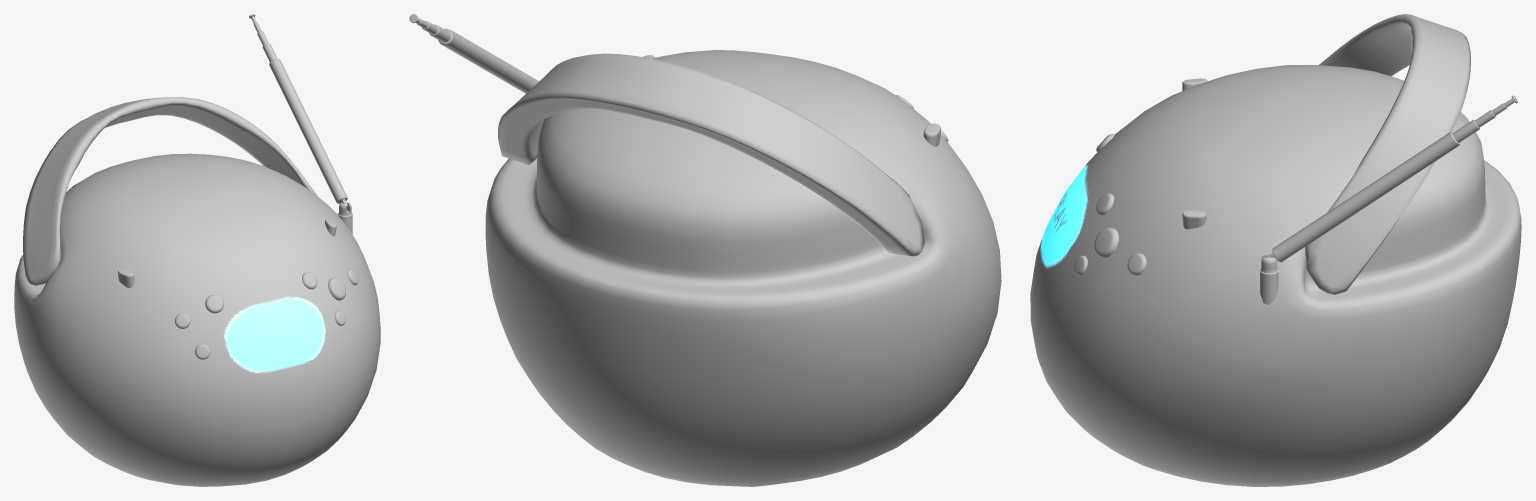
File: BoomBox.gltf
3 renders of one model, left to right at view 1: azimuth 30°, elevation 25°; view 2: azimuth 150°, elevation 25°; view 3: azimuth 270°, elevation 25°, orthographic. The views are drawn at different scales.
Visible parts, largest first — view 1: rootNode; view 2: rootNode; view 3: rootNode.
Boxes of the visible parts, left/top/right/bottom form: rootNode: left=14, top=14, right=380, bottom=486; rootNode: left=409, top=14, right=1001, bottom=486; rootNode: left=1030, top=14, right=1521, bottom=486.
Size of the model in its own units: 0.0198 by 0.0195 by 0.0202.
